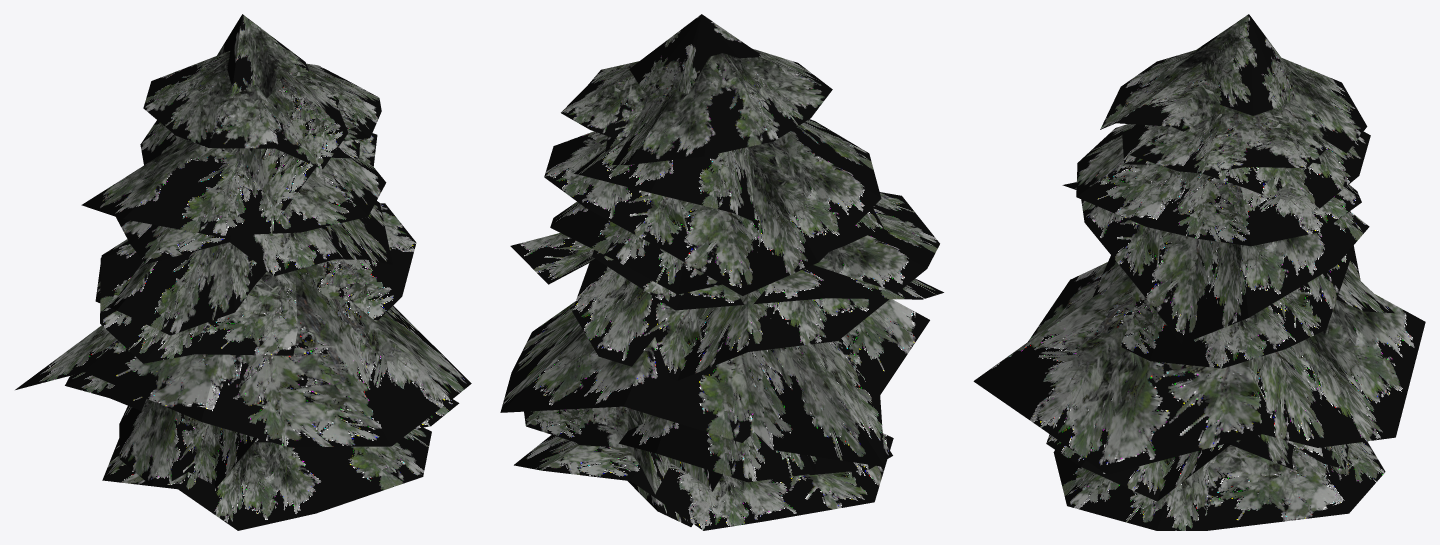
File: pine.obj
3 views of the same model, side by side, from view 1: azimuth 30°, elevation 25°; view 2: azimuth 150°, elevation 25°; view 3: azimuth 270°, elevation 25° (orthographic). The views are drawn at different scales.
Visible parts, largest first — view 1: SnowBranchCircle; view 2: SnowBranchCircle; view 3: SnowBranchCircle.
Part boxes in pixels (x1,y1,x2,y2): SnowBranchCircle: (15,14,471,530); SnowBranchCircle: (500,14,943,530); SnowBranchCircle: (973,14,1425,530).
Size of the model in its own units: 0.3362 by 0.42 by 0.3476.
2 materials, 1 textured.
